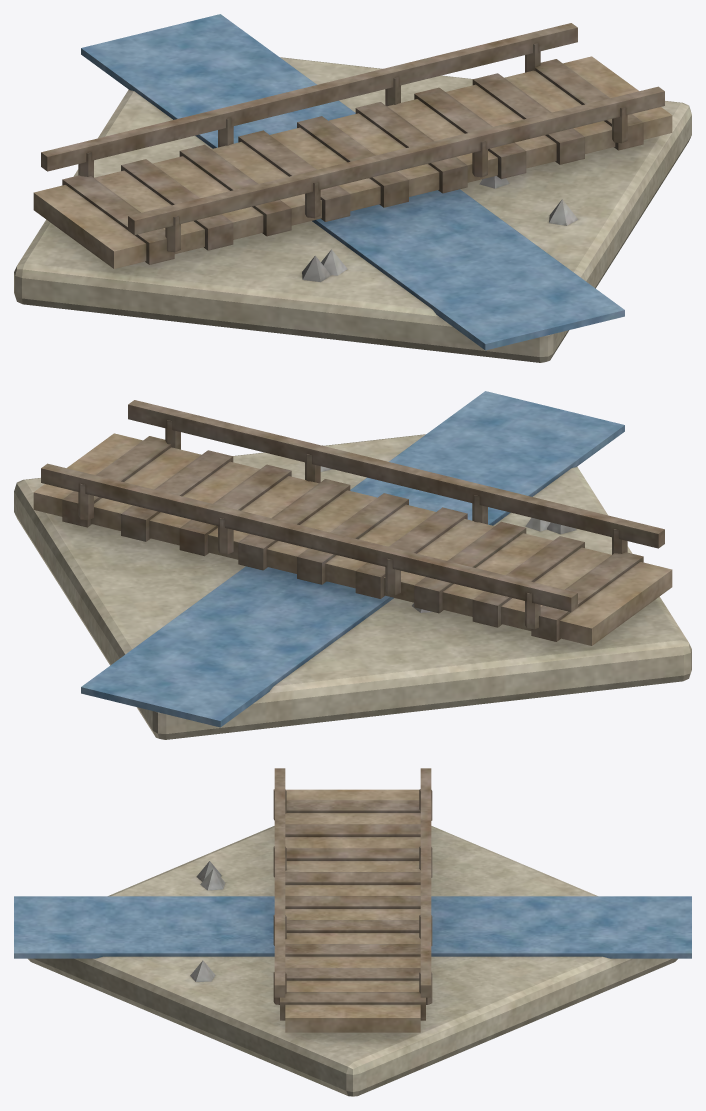
The model's file is bridge_b.glb.
3 views of the same model, one above another, from view 1: azimuth 30°, elevation 25°; view 2: azimuth 150°, elevation 25°; view 3: azimuth 270°, elevation 25° (orthographic). The views are drawn at different scales.
Parts seen in each view (by area): view 1: dilek; view 2: dilek; view 3: dilek.
Part boxes in pixels (<box>): dilek: <box>14,14,691,362</box>; dilek: <box>14,391,691,739</box>; dilek: <box>14,768,691,1096</box>.
Size of the model in its own units: 2.42 by 0.35 by 2.51.
Materials: 1 (1 with a texture image).
